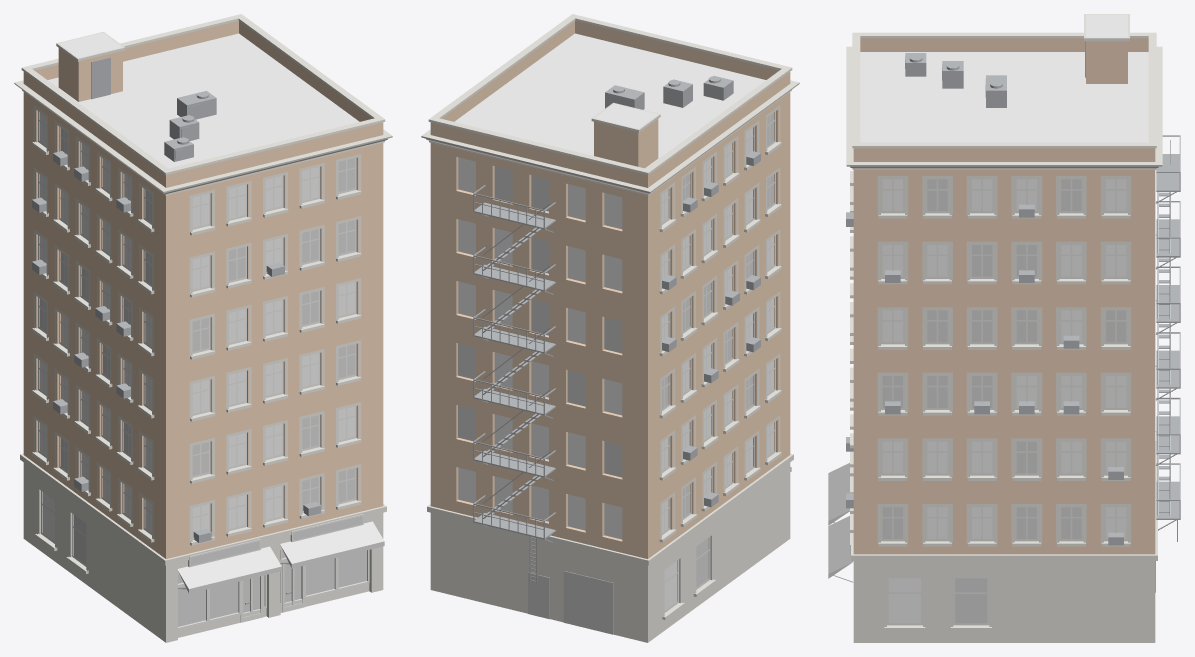
The model's file is midtown_w44f6.glb.
3 views of the same model, side by side, from view 1: azimuth 30°, elevation 25°; view 2: azimuth 150°, elevation 25°; view 3: azimuth 270°, elevation 25° (orthographic). The views are drawn at different scales.
Parts seen in each view (by area): view 1: midtown_w44f6_Walls, midtown_w44f6_Trim, midtown_w44f6_Roof, midtown_w44f6_Glass, midtown_w44f6_Frames, midtown_w44f6_WindowsLit, midtown_w44f6_Details, midtown_w44f6_Awning, midtown_w44f6_Sign; view 2: midtown_w44f6_Walls, midtown_w44f6_Trim, midtown_w44f6_Roof, midtown_w44f6_Glass, midtown_w44f6_Details, midtown_w44f6_WindowsLit, midtown_w44f6_Frames, midtown_w44f6_Doors; view 3: midtown_w44f6_Walls, midtown_w44f6_Trim, midtown_w44f6_Roof, midtown_w44f6_Glass, midtown_w44f6_Frames, midtown_w44f6_Details, midtown_w44f6_WindowsLit, midtown_w44f6_Awning.
Part boxes in pixels (<box>): midtown_w44f6_Walls: <box>23,21,383,558</box>; midtown_w44f6_Trim: <box>14,14,392,642</box>; midtown_w44f6_Roof: <box>48,32,359,168</box>; midtown_w44f6_Glass: <box>39,112,355,541</box>; midtown_w44f6_Frames: <box>38,111,369,629</box>; midtown_w44f6_WindowsLit: <box>39,128,366,626</box>; midtown_w44f6_Details: <box>32,57,321,604</box>; midtown_w44f6_Awning: <box>177,521,384,593</box>; midtown_w44f6_Sign: <box>190,516,362,565</box>; midtown_w44f6_Walls: <box>430,21,790,558</box>; midtown_w44f6_Trim: <box>421,14,799,642</box>; midtown_w44f6_Roof: <box>454,33,765,168</box>; midtown_w44f6_Glass: <box>458,128,774,610</box>; midtown_w44f6_Details: <box>473,76,760,584</box>; midtown_w44f6_WindowsLit: <box>458,112,774,587</box>; midtown_w44f6_Frames: <box>662,111,775,612</box>; midtown_w44f6_Doors: <box>528,571,613,634</box>; midtown_w44f6_Walls: <box>853,38,1155,554</box>; midtown_w44f6_Trim: <box>846,14,1162,642</box>; midtown_w44f6_Roof: <box>860,14,1148,142</box>; midtown_w44f6_Glass: <box>882,179,1126,623</box>; midtown_w44f6_Frames: <box>850,179,1127,625</box>; midtown_w44f6_Details: <box>833,41,1180,582</box>; midtown_w44f6_WindowsLit: <box>882,179,1126,623</box>; midtown_w44f6_Awning: <box>828,463,853,578</box>.
Size of the model in its own units: 46.6 by 96.54 by 58.4.
